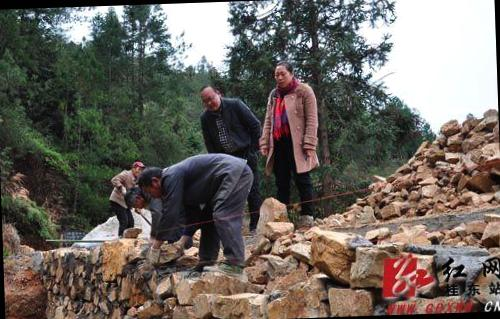no_helmet: (196, 79, 224, 113), (137, 166, 168, 196), (271, 57, 298, 89), (122, 188, 147, 210)
